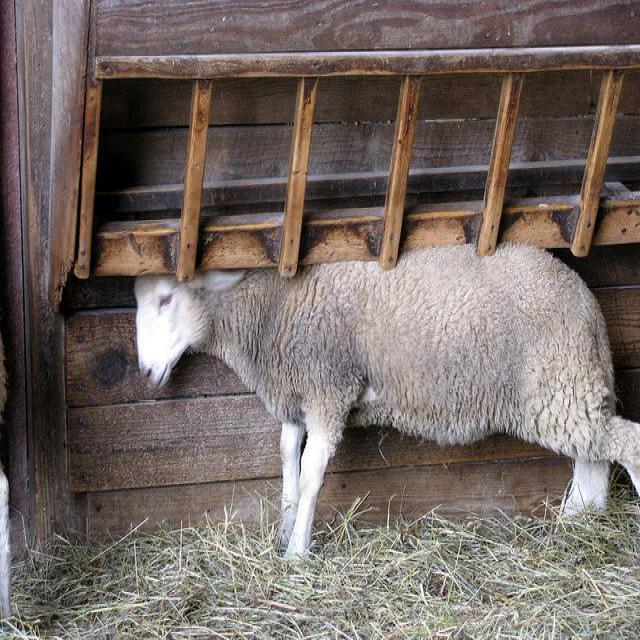Sheep: (131, 244, 639, 561)
